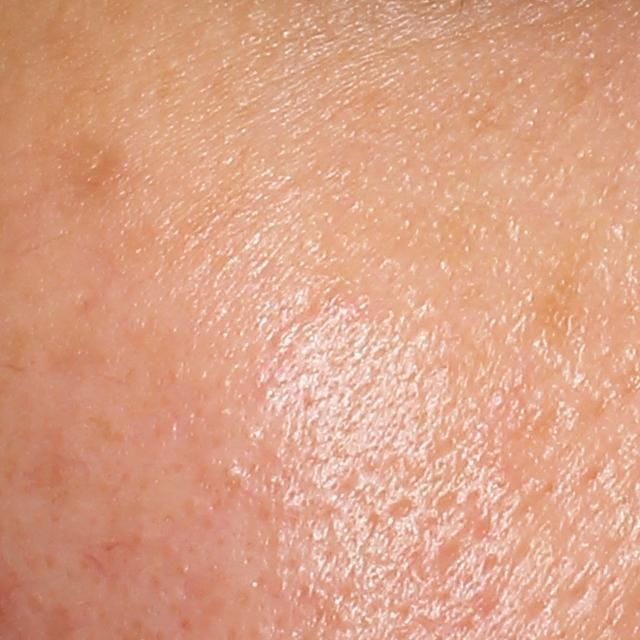atrophic_scar: (410, 491, 485, 587), (378, 492, 415, 523)
melasma: (529, 250, 595, 347), (61, 128, 125, 212)
